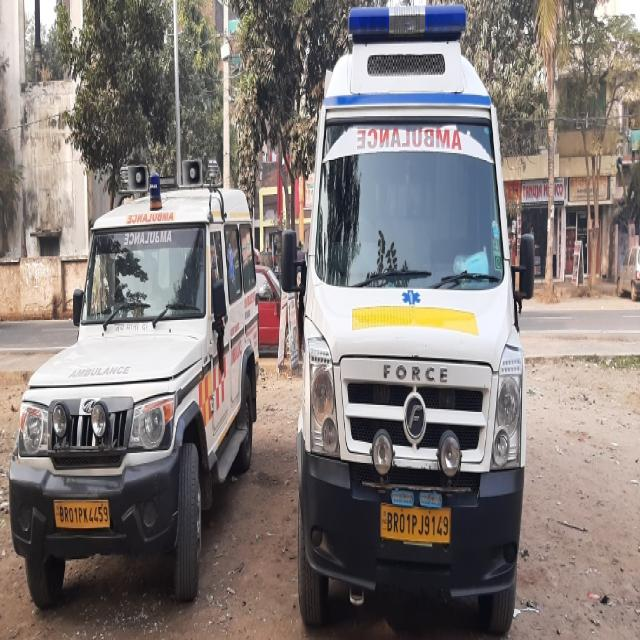emergency: (282, 6, 532, 633), (10, 159, 259, 608)
